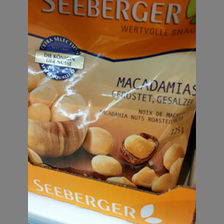nuts: (28, 1, 196, 190)
